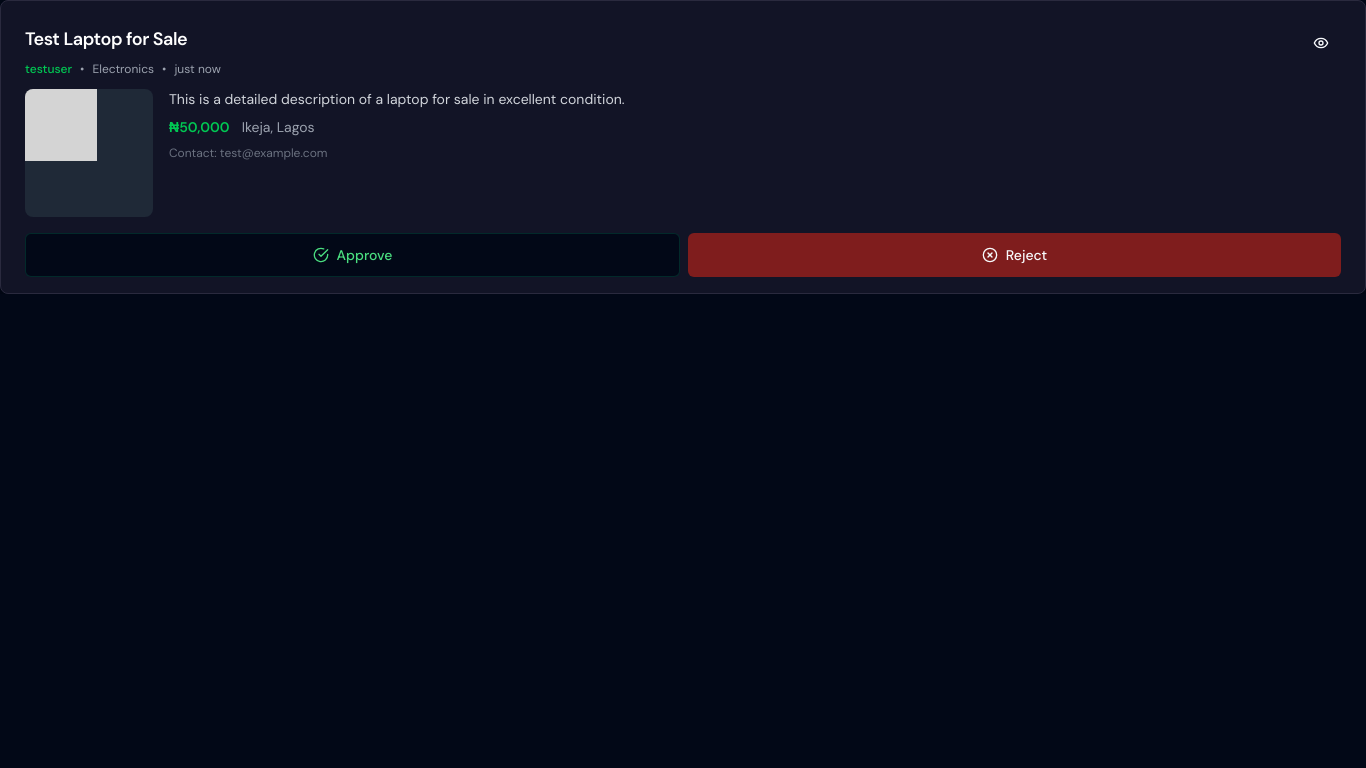
Scenario: ListingApprovalCard › opens rejection modal when reject button is clicked
Click the button "Reject" at (1014, 255), box [688, 233, 1341, 277]
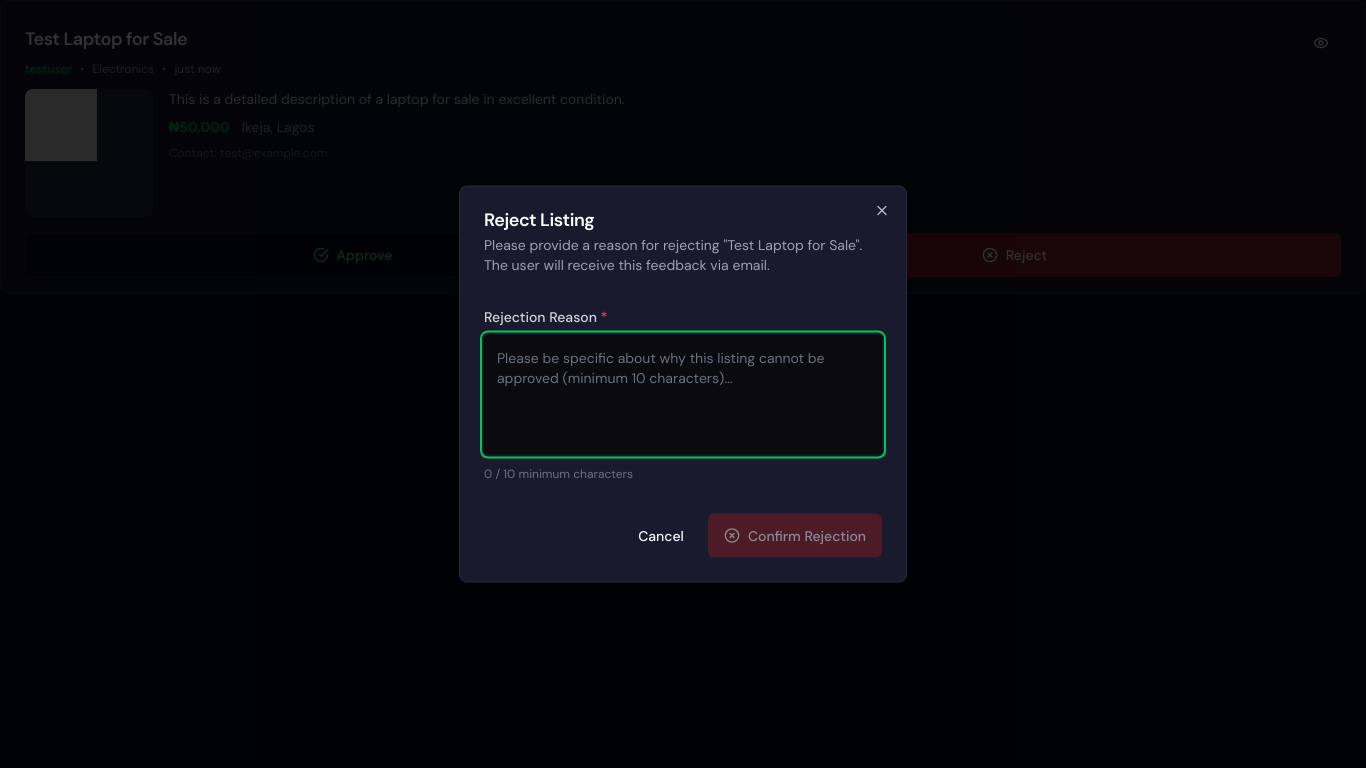
Expected: the heading "Reject Listing" is shown, [484, 208, 594, 232]
Expected: the text box labelled "Rejection Reason *" is shown, [484, 334, 882, 454]
